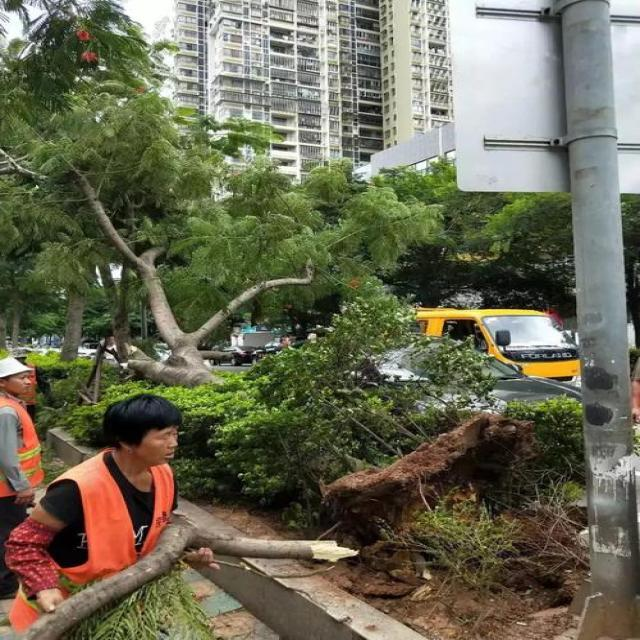fallen_object: (56, 160, 423, 494), (14, 523, 358, 640)
